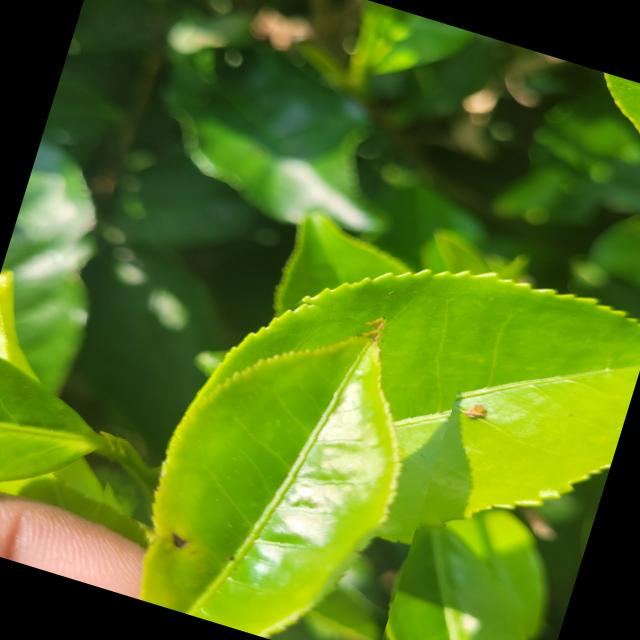Catagory A(1-2 days): (65, 250, 471, 640)
